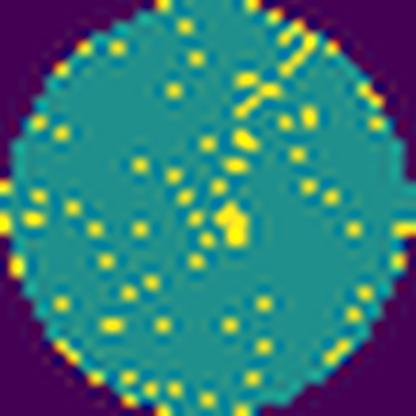Edge-Loc: (212, 202, 250, 245)
